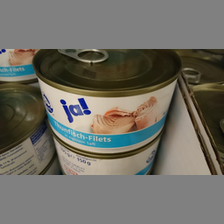fish: (33, 48, 182, 153)
